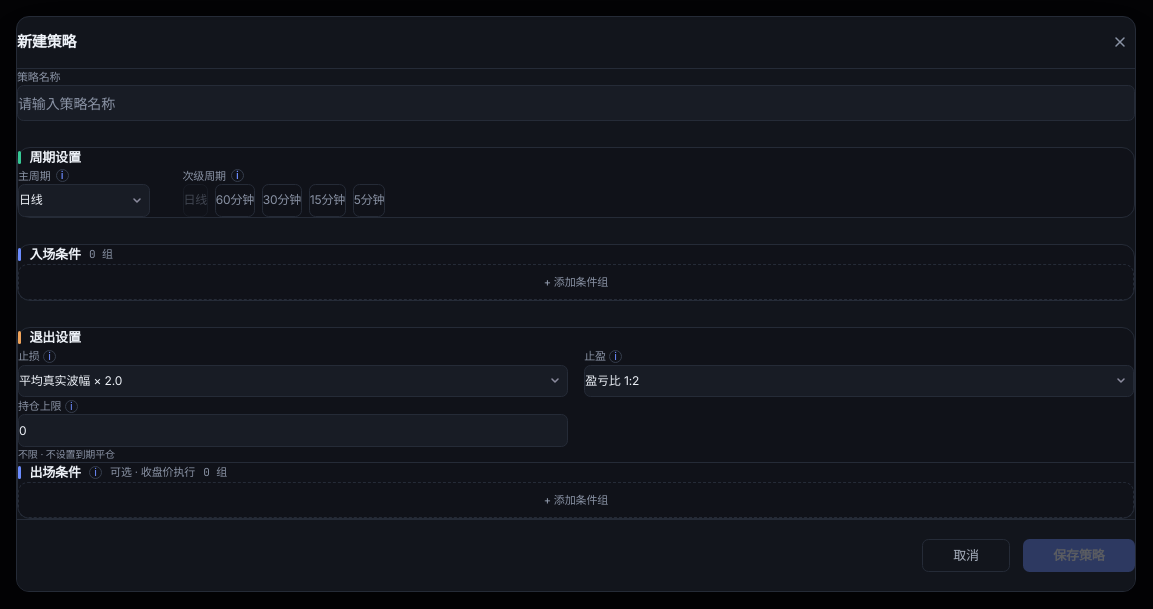
Test case: TemplateEditor 周期设置 › 次级周期只允许选比主周期更细的级别
主周期 30分钟：更粗的日线/60分钟与同级的 30分钟 都不可选
Step 1. Select "30分钟" in the dropdown named "主周期" → [84, 200], box [18, 184, 150, 217]
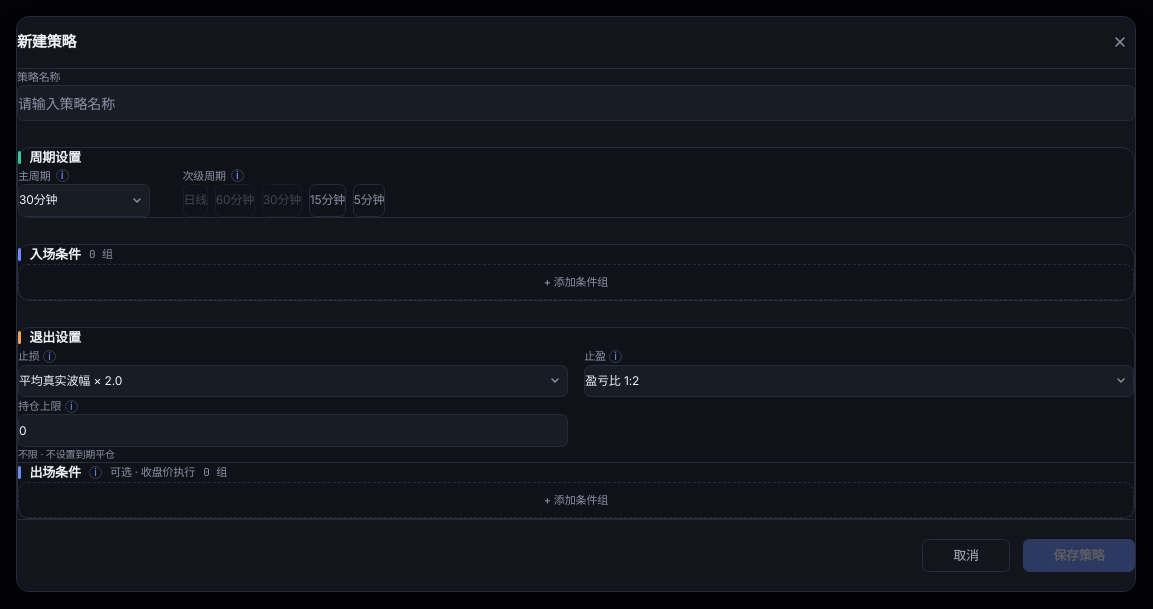
Expected: the button "日线" is disabled, [182, 184, 208, 217]
Expected: the button "60分钟" is disabled, [215, 184, 255, 217]
Expected: the button "30分钟" is disabled, [262, 184, 302, 217]
